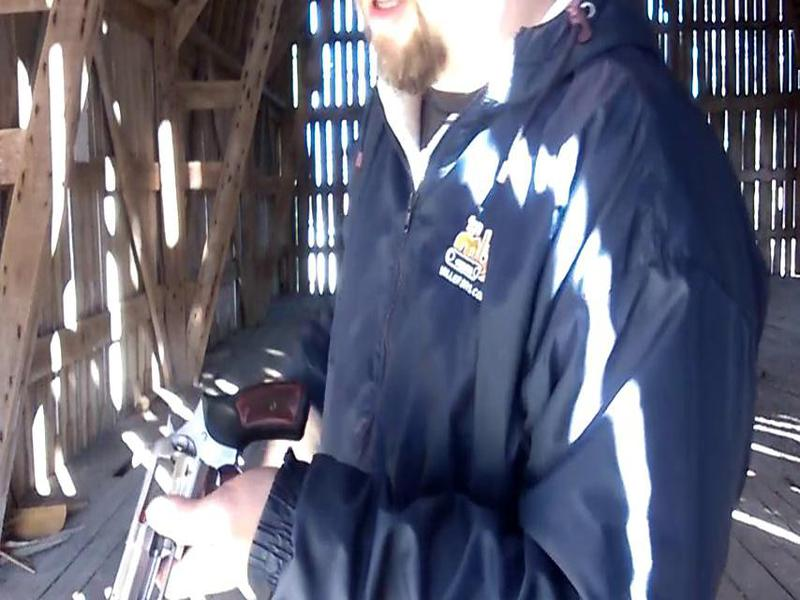Revolver: (109, 373, 327, 600)
